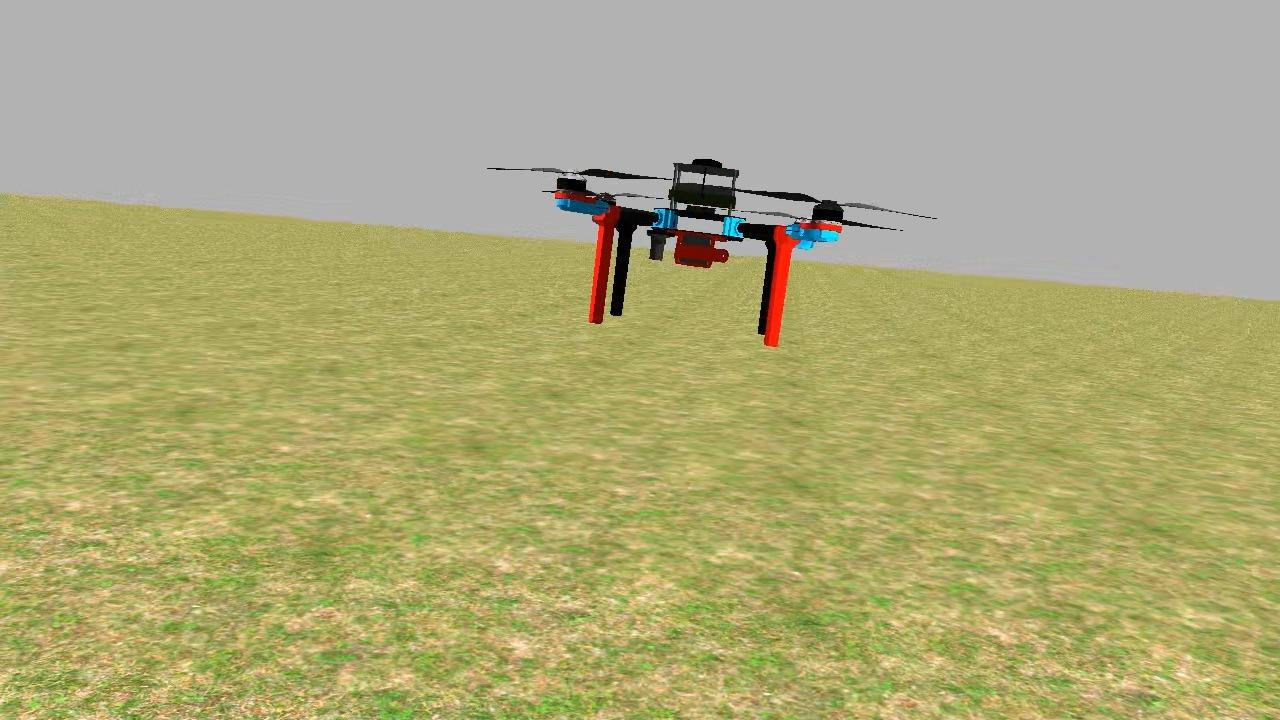UAV: (507, 119, 881, 361)
